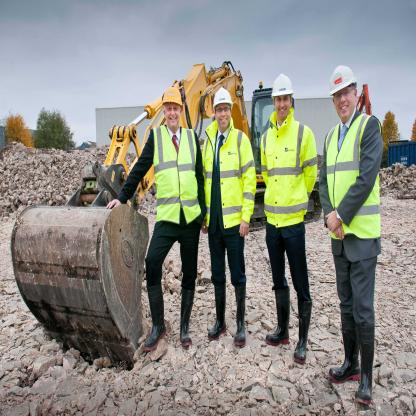person: (316, 42, 387, 406), (133, 85, 205, 359), (257, 62, 314, 366), (200, 75, 259, 355)
